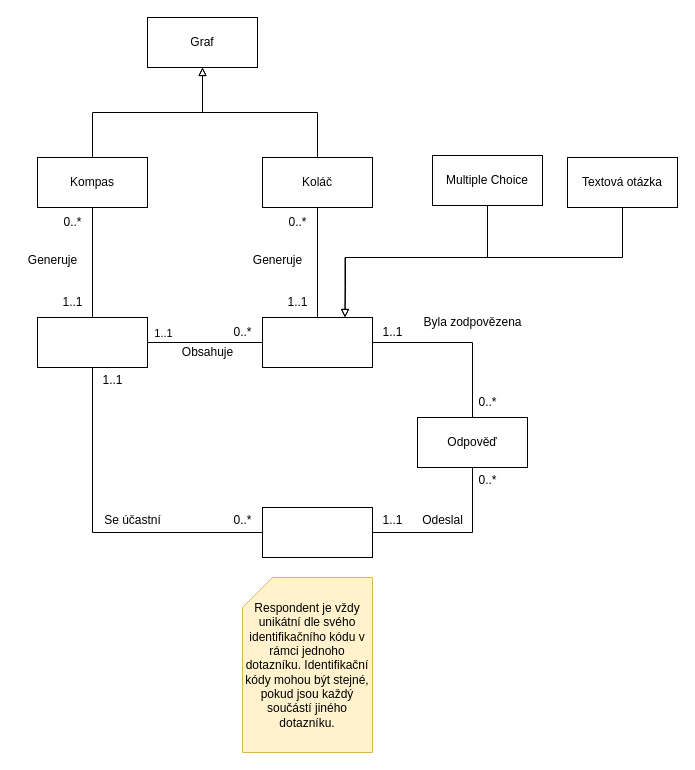
The diagram is 695 pixels wide and 770 high, and some of its shapes have lost their labels. Here are the shapes that lost their labels. From the top down, the centre of each, then its label:
(x=92, y=342): Dotazník
(x=317, y=342): Otázka
(x=317, y=532): Respondent
